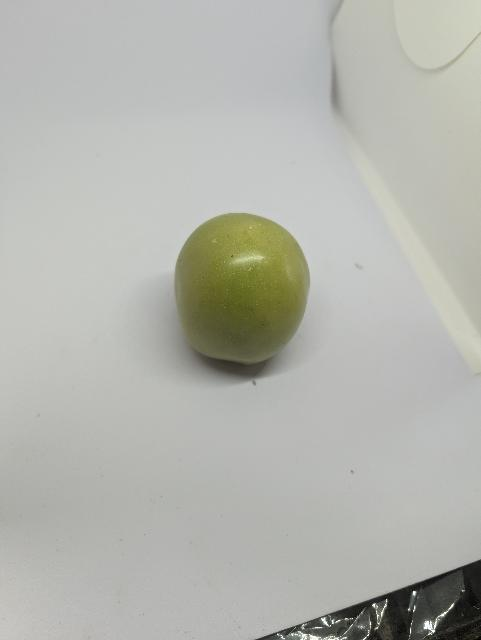green: (152, 202, 322, 373)
